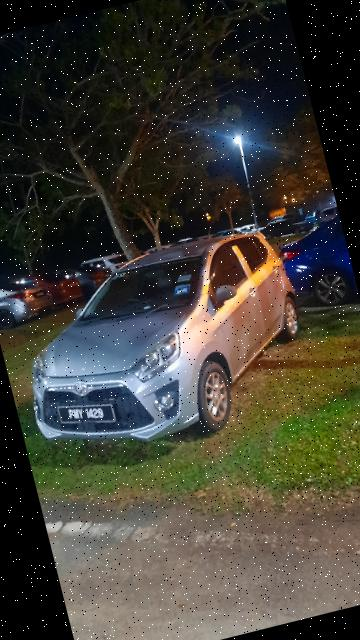License_Plate: (51, 391, 121, 441)
car: (1, 215, 326, 475)
